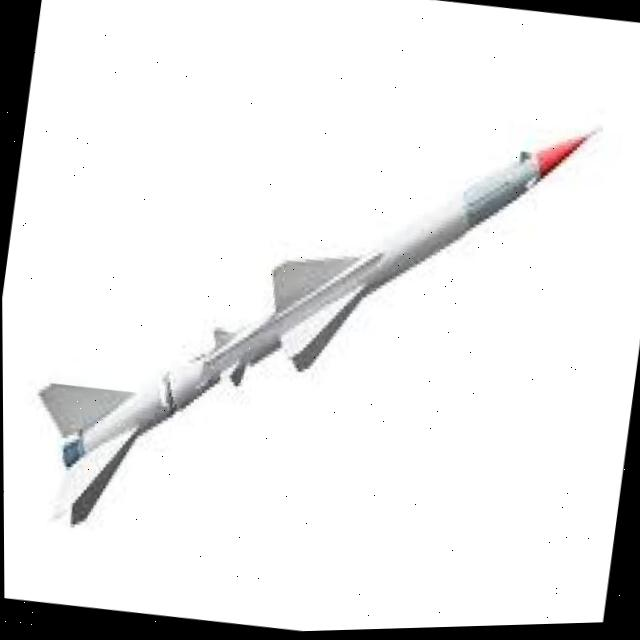missile: (10, 52, 604, 596)
